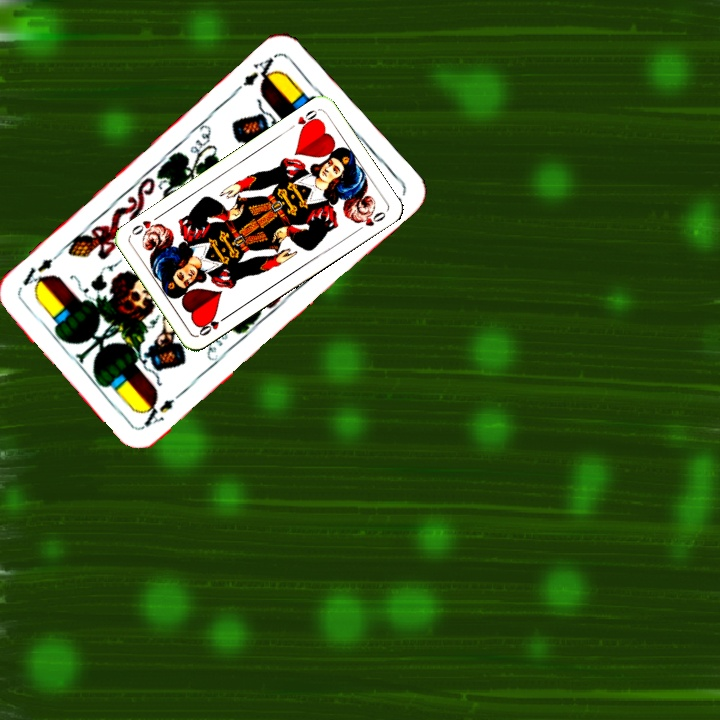EA: (230, 52, 282, 97), (139, 394, 177, 430)
HO: (195, 311, 231, 339), (293, 106, 321, 134)
